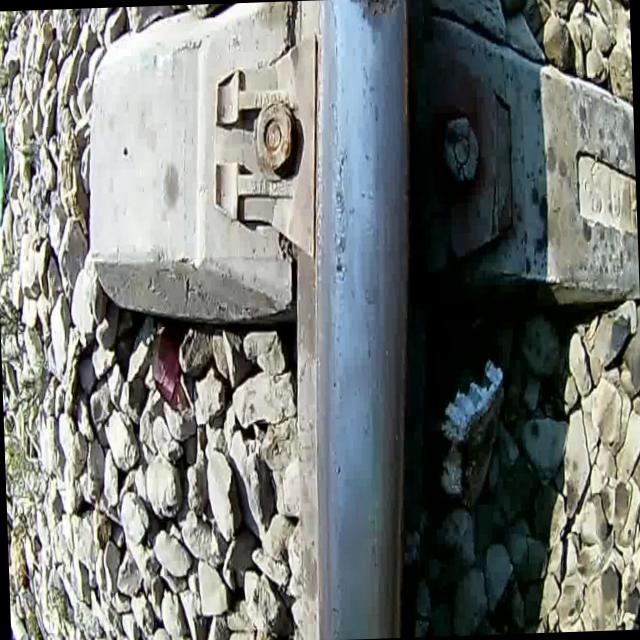Spallings: (330, 0, 407, 15)
Squats: (323, 122, 358, 300), (322, 0, 411, 43)
